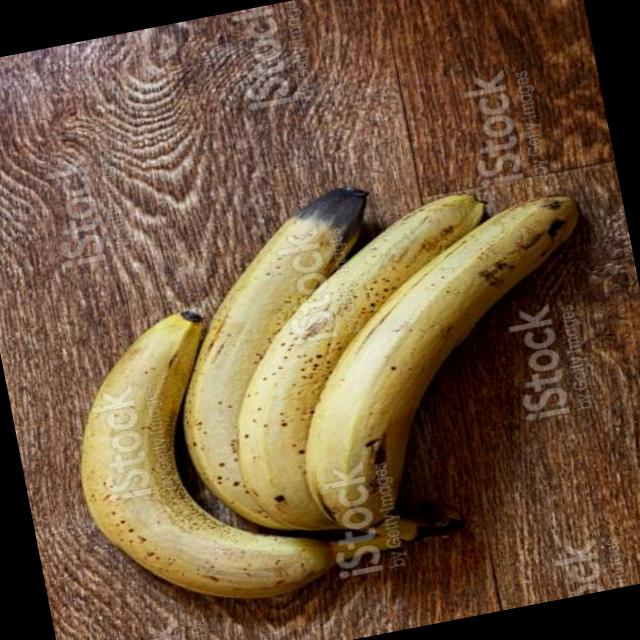Platano: (30, 139, 640, 630)
